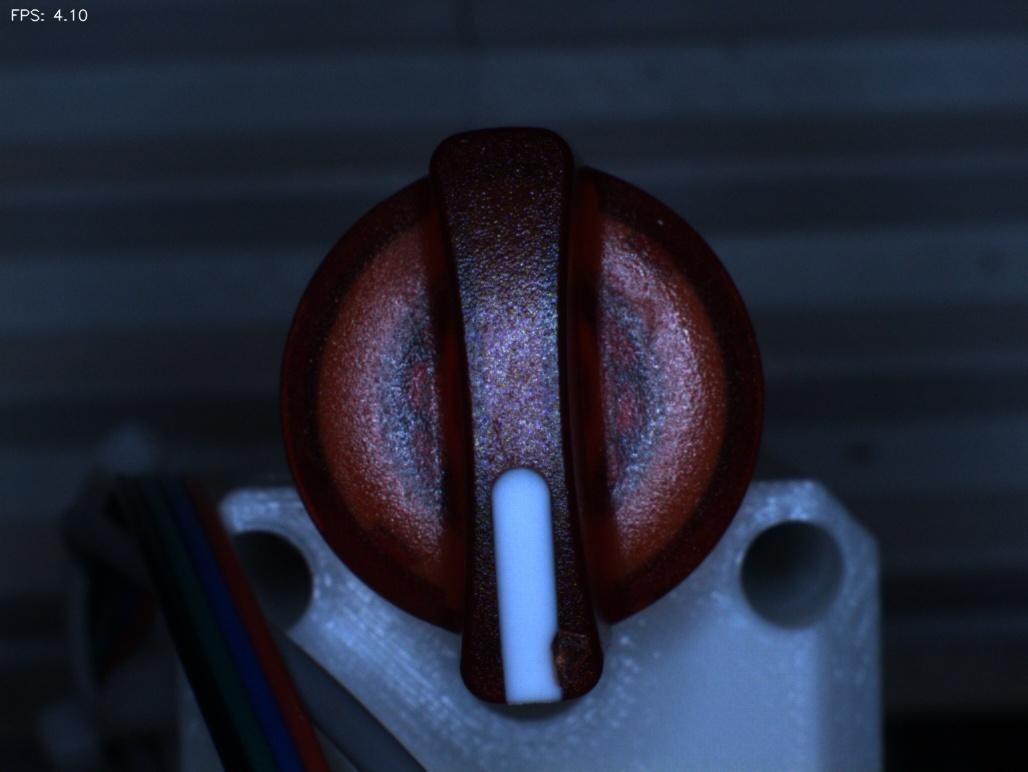Choc: (525, 597, 628, 697)
